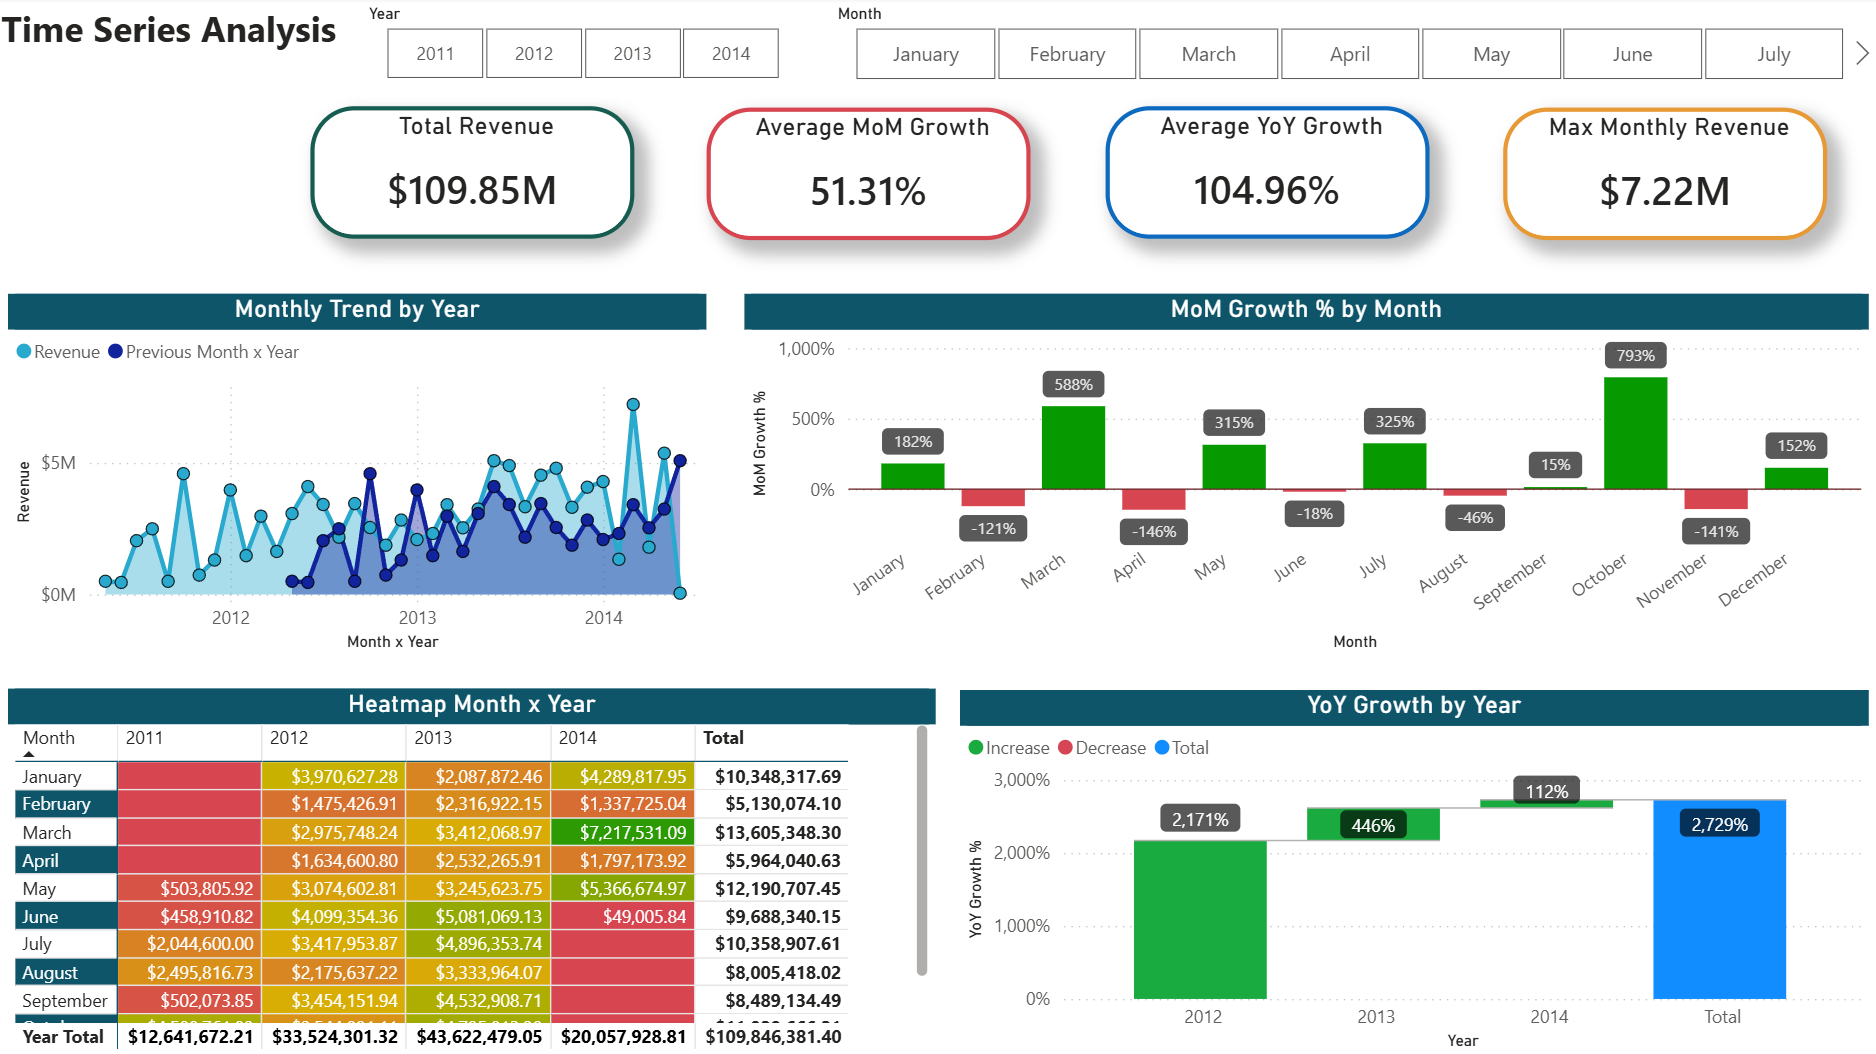

Layout of this report page (visuals, bound fields, positions):
{"tool":"powerbi","page":{"name":"Time Series Analysis","canvas":[1280,720],"ordinal":6},"visuals":[{"type":"slicer","fields":{"Values":["DimDate.Year"]},"box":[241.1,0,315.6,62.2],"z":0},{"type":"slicer","fields":{"Values":["DimDate.MonthName_EN"]},"box":[560,0,720,62.7],"z":1000},{"type":"textbox","box":[0,0,241.2,73.8],"z":2000},{"type":"cardVisual","title":"Total Revenue","fields":{"Data":["Sum(AnnualSales.Revenue)"]},"box":[214.7,74,220,90],"z":3000},{"type":"cardVisual","title":"Average YoY Growth","fields":{"Data":["Avg(AnnualSales.YoY_Growth)"]},"box":[755,74,220,90],"z":4000},{"type":"cardVisual","title":"Max Monthly Revenue","fields":{"Data":["Max(AnnualSales.Revenue)"]},"box":[1025,75.3,220,90],"z":5000},{"type":"cardVisual","title":"Average MoM Growth","fields":{"Data":["Avg(AnnualSales.MoM_Growth)"]},"box":[484,75.3,220,90],"z":6000},{"type":"areaChart","title":"Monthly Trend by Year","fields":{"Y":["Sum(AnnualSales.Revenue)","Sum(AnnualSales.PrevYearRevenue)"],"Category":["AnnualSales.YearMonth"]},"box":[9.5,201.6,474.4,247.2],"z":7000},{"type":"columnChart","title":"MoM Growth % by Month","fields":{"Y":["Sum(AnnualSales.MoM_Growth)"],"Category":["DimDate.MonthName_EN"]},"box":[509.6,201.6,763.4,247.2],"z":8000},{"type":"pivotTable","title":"Heatmap Month x Year","fields":{"Columns":["DimDate.Year"],"Values":["Sum(AnnualSales.Revenue)"],"Rows":["DimDate.MonthName_EN"]},"box":[9.5,469.7,630.3,250],"z":9000},{"type":"waterfallChart","title":"YoY Growth by Year","fields":{"Category":["DimDate.Year"],"Y":["Sum(AnnualSales.YoY_Growth)"]},"box":[656,470.6,617,249.1],"z":10000}]}

Visuals, with their boxes in screenshot pixels (x1, y1, x2, y2), scaled from the page's 1280x720 canvas onto the 1876x1054 screenshot:
slicer - DimDate.Year: pyautogui.locateOnScreen(353, 0, 816, 91)
slicer - DimDate.MonthName_EN: pyautogui.locateOnScreen(821, 0, 1875, 92)
textbox: pyautogui.locateOnScreen(0, 0, 354, 108)
"Total Revenue" cardVisual: pyautogui.locateOnScreen(315, 108, 637, 240)
"Average YoY Growth" cardVisual: pyautogui.locateOnScreen(1107, 108, 1429, 240)
"Max Monthly Revenue" cardVisual: pyautogui.locateOnScreen(1502, 110, 1825, 242)
"Average MoM Growth" cardVisual: pyautogui.locateOnScreen(709, 110, 1032, 242)
"Monthly Trend by Year" areaChart: pyautogui.locateOnScreen(14, 295, 709, 657)
"MoM Growth % by Month" columnChart: pyautogui.locateOnScreen(747, 295, 1866, 657)
"Heatmap Month x Year" pivotTable: pyautogui.locateOnScreen(14, 688, 938, 1053)
"YoY Growth by Year" waterfallChart: pyautogui.locateOnScreen(961, 689, 1866, 1053)
